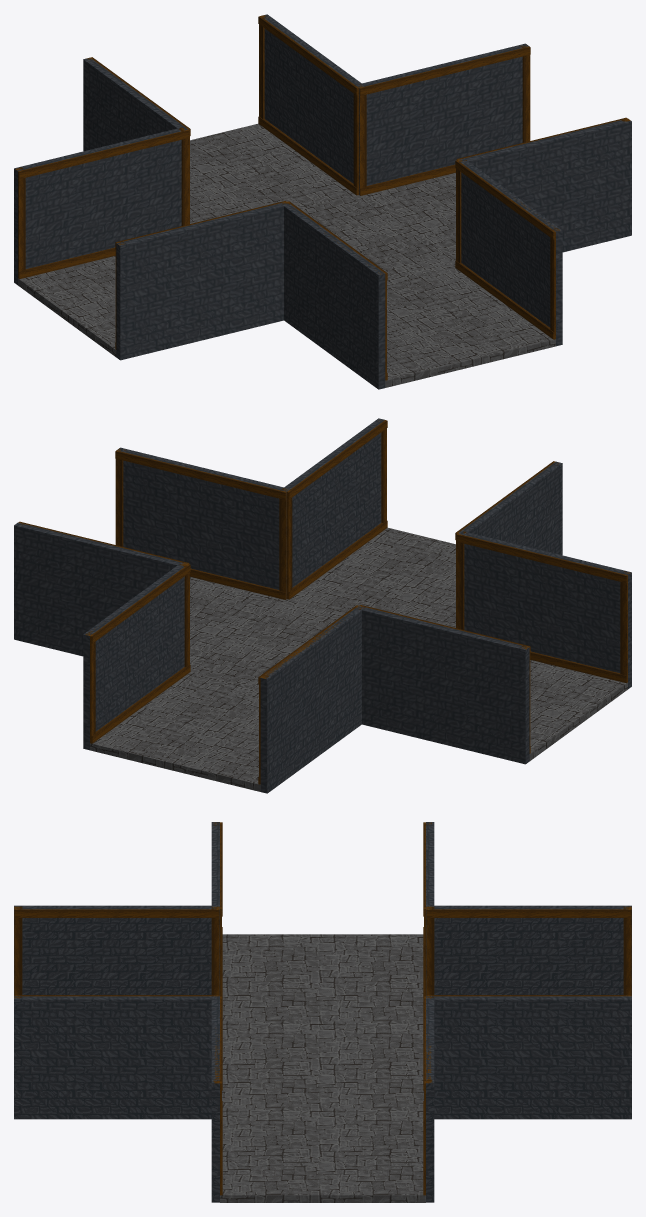
File: Kreuzung V1.fbx
3 views of the same model, one above another, from view 1: azimuth 30°, elevation 25°; view 2: azimuth 150°, elevation 25°; view 3: azimuth 270°, elevation 25° (orthographic). The views are drawn at different scales.
Parts seen in each view (by area): view 1: Kreuzung V1.012, Kreuzung V1.007, Kreuzung V1.009, Kreuzung V1.010, Kreuzung V1, Kreuzung V1.005, Kreuzung V1.011, Kreuzung V1.008, Kreuzung V1.004, Kreuzung V1.001, Kreuzung V1.006, Kreuzung V1.002 (+1 smaller); view 2: Kreuzung V1.007, Kreuzung V1.012, Kreuzung V1.010, Kreuzung V1.009, Kreuzung V1.006, Kreuzung V1.004, Kreuzung V1.008, Kreuzung V1.011, Kreuzung V1.005, Kreuzung V1.001, Kreuzung V1, Kreuzung V1.002 (+1 smaller); view 3: Kreuzung V1.008, Kreuzung V1.011, Kreuzung V1.003, Kreuzung V1, Kreuzung V1.006, Kreuzung V1.001, Kreuzung V1.002, Kreuzung V1.010, Kreuzung V1.009, Kreuzung V1.007, Kreuzung V1.012.
Part boxes in pixels (x1=…): Kreuzung V1.012: x1=115, y1=201, x2=289, y2=360; Kreuzung V1.007: x1=14, y1=128, x2=189, y2=285; Kreuzung V1.009: x1=355, y1=43, x2=530, y2=195; Kreuzung V1.010: x1=456, y1=117, x2=631, y2=252; Kreuzung V1: x1=280, y1=201, x2=387, y2=389; Kreuzung V1.005: x1=385, y1=268, x2=555, y2=387; Kreuzung V1.011: x1=455, y1=158, x2=562, y2=346; Kreuzung V1.008: x1=258, y1=14, x2=365, y2=195; Kreuzung V1.004: x1=190, y1=123, x2=357, y2=223; Kreuzung V1.001: x1=301, y1=195, x2=455, y2=284; Kreuzung V1.006: x1=83, y1=57, x2=190, y2=223; Kreuzung V1.002: x1=18, y1=256, x2=116, y2=356; Kreuzung V1.007: x1=355, y1=605, x2=530, y2=764; Kreuzung V1.012: x1=456, y1=532, x2=631, y2=689; Kreuzung V1.010: x1=115, y1=447, x2=290, y2=599; Kreuzung V1.009: x1=14, y1=521, x2=189, y2=656; Kreuzung V1.006: x1=258, y1=605, x2=365, y2=793; Kreuzung V1.004: x1=90, y1=672, x2=260, y2=791; Kreuzung V1.008: x1=83, y1=562, x2=190, y2=750; Kreuzung V1.011: x1=284, y1=418, x2=387, y2=599; Kreuzung V1.005: x1=288, y1=527, x2=455, y2=627; Kreuzung V1.001: x1=190, y1=599, x2=344, y2=688; Kreuzung V1: x1=455, y1=461, x2=562, y2=627; Kreuzung V1.002: x1=529, y1=660, x2=627, y2=760; Kreuzung V1.008: x1=426, y1=995, x2=631, y2=1119; Kreuzung V1.011: x1=14, y1=995, x2=219, y2=1119; Kreuzung V1.003: x1=220, y1=1108, x2=425, y2=1202; Kreuzung V1: x1=14, y1=905, x2=219, y2=995; Kreuzung V1.006: x1=426, y1=905, x2=631, y2=995; Kreuzung V1.001: x1=222, y1=1021, x2=423, y2=1108; Kreuzung V1.002: x1=222, y1=934, x2=423, y2=1021; Kreuzung V1.010: x1=211, y1=996, x2=222, y2=1202; Kreuzung V1.009: x1=423, y1=996, x2=434, y2=1202; Kreuzung V1.007: x1=423, y1=822, x2=434, y2=996; Kreuzung V1.012: x1=211, y1=822, x2=222, y2=996.
Size of the model in its own units: 1500 by 1500 by 320.
1 material, 1 textured.
